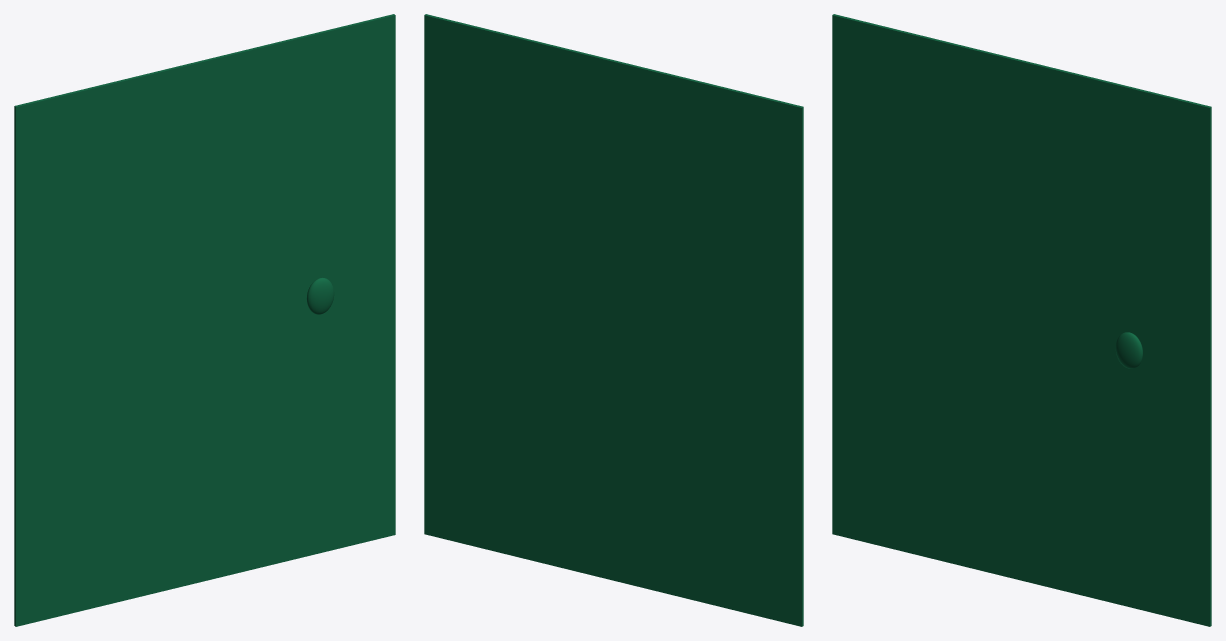
Rendered from puertaDerBuro.OBJ.
3 views of the same model, side by side, from view 1: azimuth 30°, elevation 25°; view 2: azimuth 150°, elevation 25°; view 3: azimuth 330°, elevation 25° (orthographic).
Visible parts, largest first — view 1: pSphere3; view 2: pSphere3; view 3: pSphere3.
Part boxes in pixels (bbox=[...]): pSphere3: bbox=[14, 14, 395, 626]; pSphere3: bbox=[424, 14, 803, 626]; pSphere3: bbox=[832, 14, 1211, 626].
Bounding box in the file's own units: 1.82 × 2.38 × 0.0691.
Materials: 1 (1 with a texture image).
